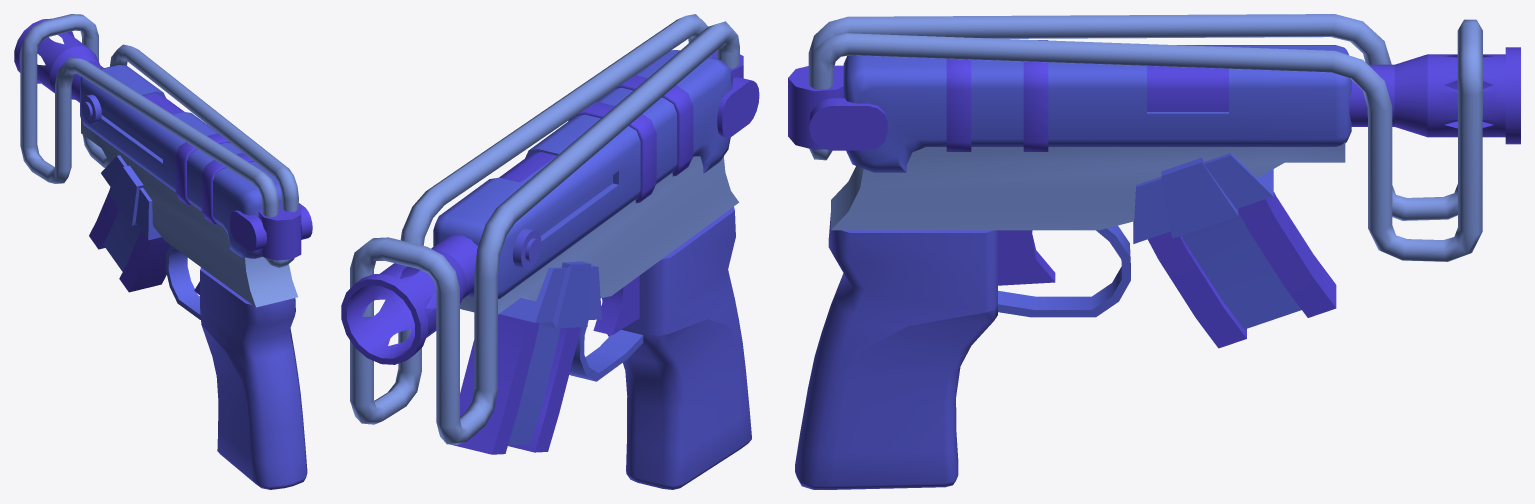
Rendered from SM_Toy_A_Pistol.fbx.
3 renders of one model, left to right at view 1: azimuth 30°, elevation 25°; view 2: azimuth 150°, elevation 25°; view 3: azimuth 270°, elevation 25°, orthographic. The views are drawn at different scales.
Parts seen in each view (by area): view 1: SM_Toy_A_Pistol; view 2: SM_Toy_A_Pistol; view 3: SM_Toy_A_Pistol.
Boxes of the visible parts, x1,y1,x2,y2 form: SM_Toy_A_Pistol: [14, 14, 312, 489]; SM_Toy_A_Pistol: [341, 14, 759, 489]; SM_Toy_A_Pistol: [788, 14, 1520, 489].
Size of the model in its own units: 51.52 by 203 by 299.
